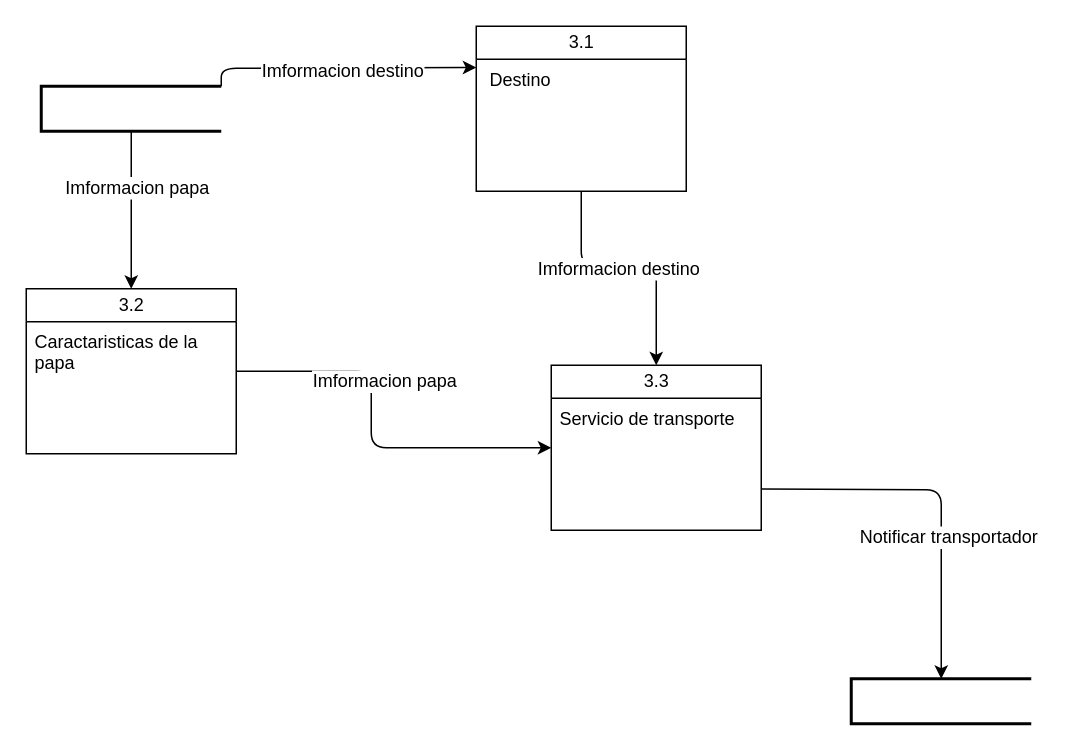
Some shapes in this 1068 by 752 pixel diagram are drawn without their labels. Here are the shapes that lost their labels. From the top down, the box of each, then its label:
(39, 84, 222, 132): Administrador
(849, 676, 1032, 724): Transportador
